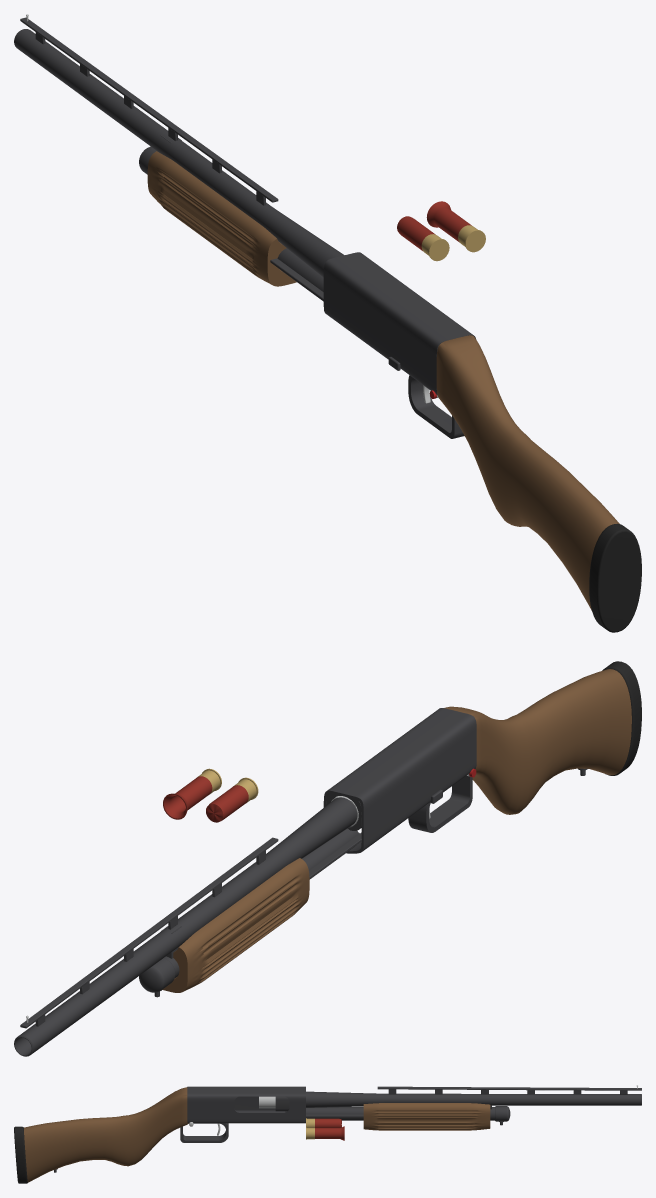
3 views of the same model, one above another, from view 1: azimuth 30°, elevation 25°; view 2: azimuth 150°, elevation 25°; view 3: azimuth 270°, elevation 25° (orthographic). The views are drawn at different scales.
Visible parts, largest first — view 1: SM_MP133_Stock, SM_MP133_Receiver, SM_MP133_Barrel, SM_MP133_Forend, SM_MP133_ButtPad, SM_MP133_Rib, SM_MP133_Shell_Spent, SM_MP133_TriggerGuard, SM_MP133_Shell; view 2: SM_MP133_Stock, SM_MP133_Receiver, SM_MP133_Barrel, SM_MP133_Forend, SM_MP133_Rib, SM_MP133_TriggerGuard, SM_MP133_Shell_Spent, SM_MP133_ButtPad, SM_MP133_Shell, SM_MP133_MagTube, SM_MP133_MagCap; view 3: SM_MP133_Stock, SM_MP133_Receiver, SM_MP133_Barrel, SM_MP133_Forend, SM_MP133_Rib, SM_MP133_MagTube, SM_MP133_ButtPad, SM_MP133_Shell_Spent, SM_MP133_TriggerGuard, SM_MP133_Shell, SM_MP133_MagCap, SM_MP133_ActionBar_R (+2 smaller).
Boxes of the visible parts, <box> form: SM_MP133_Stock: <box>436,335,619,610</box>; SM_MP133_Receiver: <box>323,252,476,395</box>; SM_MP133_Barrel: <box>14,29,344,277</box>; SM_MP133_Forend: <box>147,151,296,286</box>; SM_MP133_ButtPad: <box>589,523,641,632</box>; SM_MP133_Rib: <box>20,17,278,205</box>; SM_MP133_Shell_Spent: <box>426,201,485,252</box>; SM_MP133_TriggerGuard: <box>408,375,464,438</box>; SM_MP133_Shell: <box>397,216,449,261</box>; SM_MP133_Stock: <box>444,669,631,814</box>; SM_MP133_Receiver: <box>323,708,476,853</box>; SM_MP133_Barrel: <box>14,797,357,1056</box>; SM_MP133_Forend: <box>162,858,309,992</box>; SM_MP133_Rib: <box>20,837,278,1028</box>; SM_MP133_TriggerGuard: <box>408,775,472,832</box>; SM_MP133_Shell_Spent: <box>163,768,221,819</box>; SM_MP133_ButtPad: <box>602,661,641,775</box>; SM_MP133_Shell: <box>206,777,258,822</box>; SM_MP133_MagTube: <box>164,828,358,977</box>; SM_MP133_MagCap: <box>139,958,175,992</box>; SM_MP133_Stock: <box>24,1087,188,1182</box>; SM_MP133_Receiver: <box>187,1086,305,1123</box>; SM_MP133_Barrel: <box>306,1091,641,1107</box>; SM_MP133_Forend: <box>363,1103,490,1130</box>; SM_MP133_Rib: <box>377,1086,641,1094</box>; SM_MP133_MagTube: <box>306,1107,494,1120</box>; SM_MP133_ButtPad: <box>14,1126,27,1183</box>; SM_MP133_Shell_Spent: <box>306,1126,344,1140</box>; SM_MP133_TriggerGuard: <box>180,1123,228,1142</box>; SM_MP133_Shell: <box>306,1118,341,1127</box>; SM_MP133_MagCap: <box>495,1106,510,1121</box>; SM_MP133_ActionBar_R: <box>306,1114,363,1117</box>.
Bounding box in the file's own units: 0.1834 × 0.1955 × 1.14.
